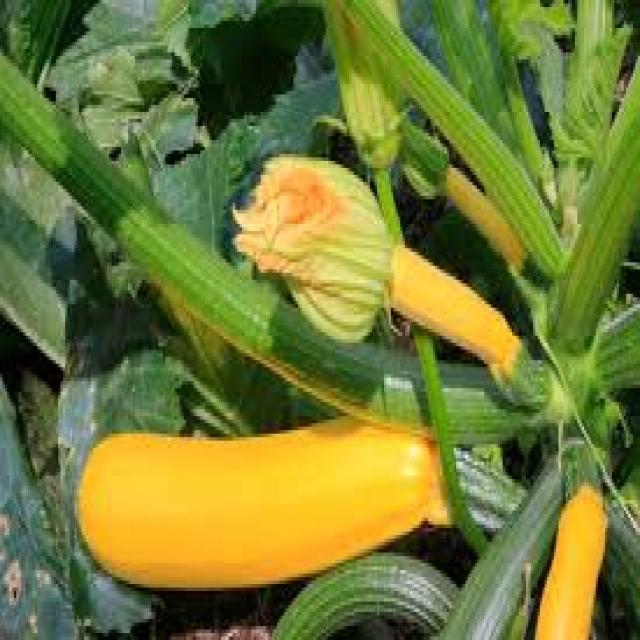organic waste: (228, 150, 552, 402), (72, 398, 521, 574), (394, 115, 528, 262), (265, 546, 456, 636), (528, 472, 605, 637)
